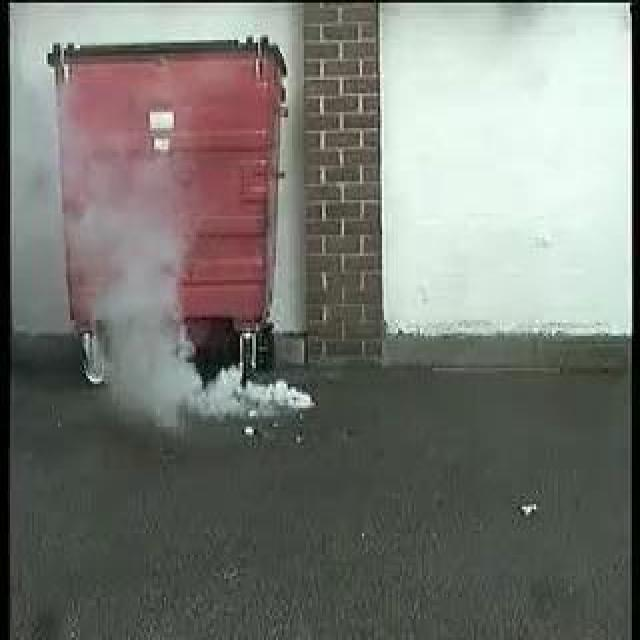Smoke: (77, 192, 309, 416)
